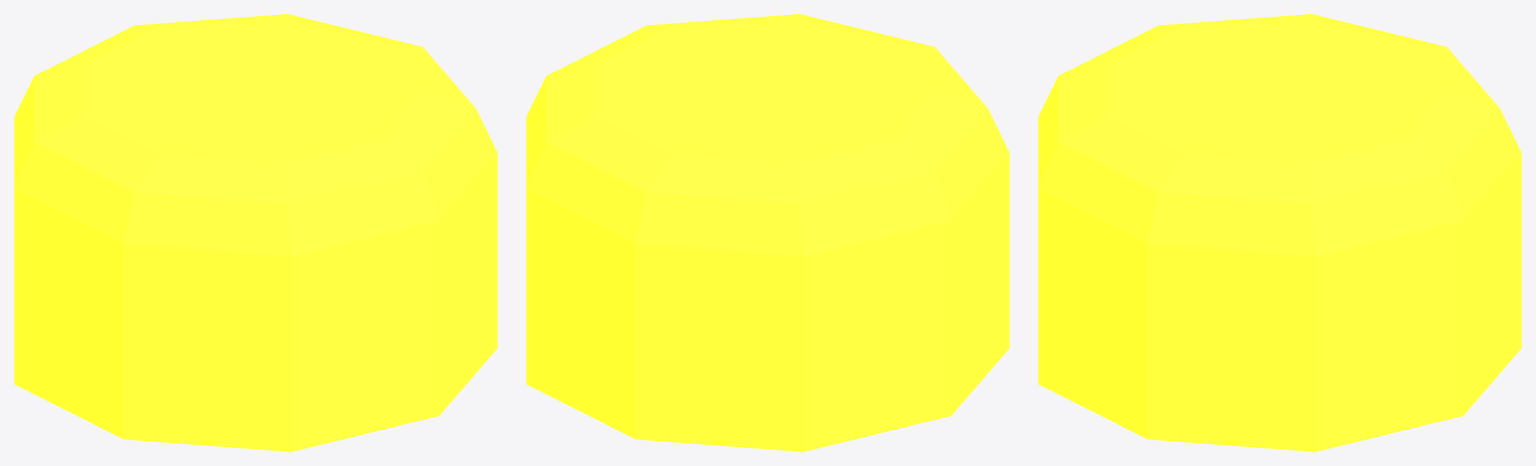
The model's file is BotonAmarillo.fbx.
3 views of the same model, side by side, from view 1: azimuth 30°, elevation 25°; view 2: azimuth 150°, elevation 25°; view 3: azimuth 270°, elevation 25° (orthographic).
Visible parts, largest first — view 1: BotonAmarillo; view 2: BotonAmarillo; view 3: BotonAmarillo.
Part boxes in pixels (left/top/right/bottom): BotonAmarillo: left=14, top=14, right=497, bottom=451; BotonAmarillo: left=526, top=14, right=1009, bottom=451; BotonAmarillo: left=1038, top=14, right=1521, bottom=451.
Bounding box in the file's own units: 69.05 × 40 × 68.
